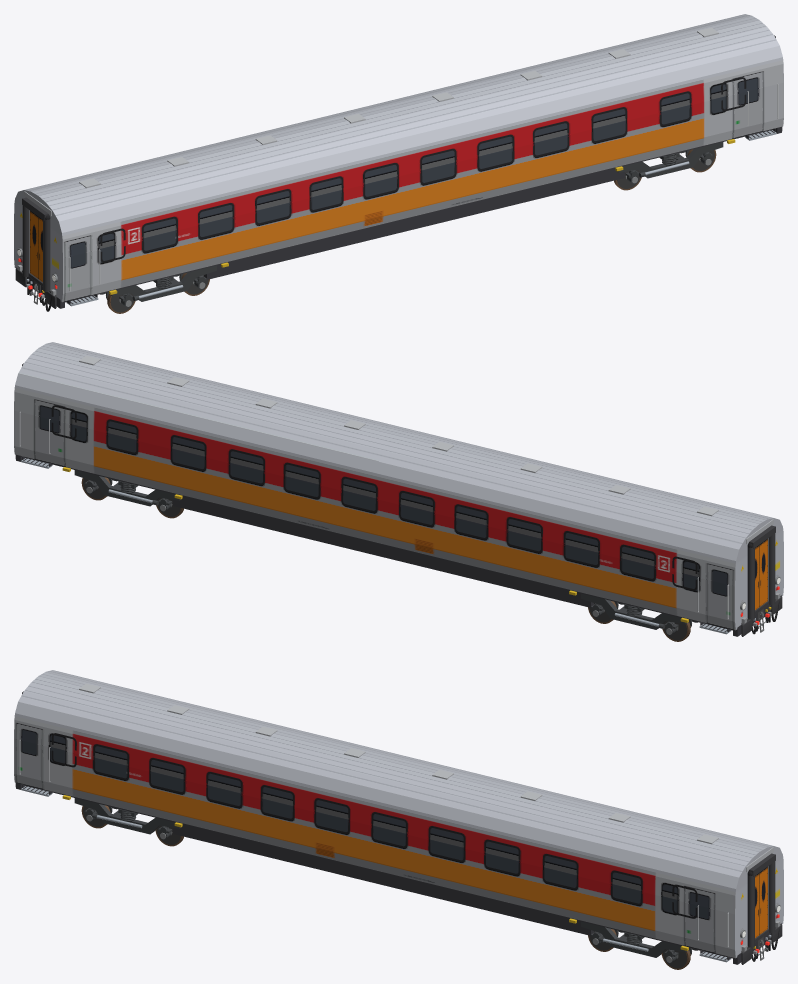
The model's file is PRB.glb.
3 views of the same model, one above another, from view 1: azimuth 30°, elevation 25°; view 2: azimuth 150°, elevation 25°; view 3: azimuth 330°, elevation 25° (orthographic).
Visible parts, largest first — view 1: PRB_pudlo, PRB_rama, PRB_guma_det, PRB_wozek, PRB_harm, PRB_went, PRB_tlum; view 2: PRB_pudlo, PRB_rama, PRB_guma_det, PRB_wozek, PRB_harm, PRB_went, PRB_tlum; view 3: PRB_pudlo, PRB_rama, PRB_guma_det, PRB_wozek, PRB_harm, PRB_went, PRB_tlum.
Boxes of the visible parts, bbox=[...] form: PRB_pudlo: bbox=[14, 14, 783, 302]; PRB_rama: bbox=[16, 127, 781, 308]; PRB_guma_det: bbox=[27, 77, 746, 311]; PRB_wozek: bbox=[100, 142, 723, 307]; PRB_harm: bbox=[22, 35, 775, 291]; PRB_went: bbox=[79, 27, 718, 188]; PRB_tlum: bbox=[26, 130, 776, 306]; PRB_pudlo: bbox=[14, 342, 783, 630]; PRB_rama: bbox=[16, 455, 781, 636]; PRB_guma_det: bbox=[51, 405, 779, 634]; PRB_wozek: bbox=[74, 470, 697, 635]; PRB_harm: bbox=[22, 363, 775, 619]; PRB_went: bbox=[79, 355, 718, 516]; PRB_tlum: bbox=[21, 458, 755, 634]; PRB_pudlo: bbox=[14, 670, 783, 958]; PRB_rama: bbox=[16, 783, 781, 964]; PRB_guma_det: bbox=[51, 733, 779, 961]; PRB_wozek: bbox=[74, 798, 697, 963]; PRB_harm: bbox=[22, 691, 775, 947]; PRB_went: bbox=[79, 683, 718, 844]; PRB_tlum: bbox=[21, 786, 771, 962].
Size of the model in its own units: 24.85 by 4.07 by 2.98.
21 materials, 1 textured.
